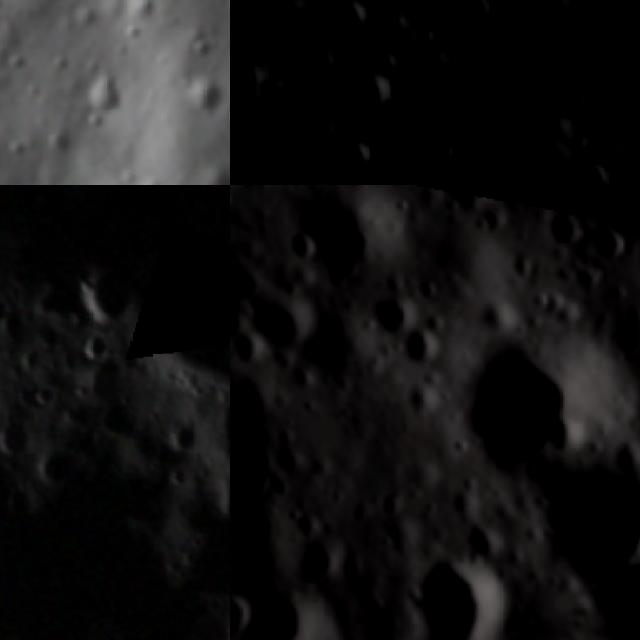crater: (449, 309, 621, 481), (519, 435, 640, 589), (380, 530, 532, 640), (230, 570, 344, 640), (230, 0, 321, 82), (322, 53, 406, 136), (230, 29, 287, 146), (288, 534, 351, 594), (436, 0, 513, 46), (577, 51, 636, 110), (75, 264, 131, 324), (387, 314, 443, 374), (536, 200, 596, 255), (358, 34, 413, 89), (556, 142, 625, 185), (330, 128, 383, 181), (412, 124, 464, 176), (248, 94, 299, 144), (441, 185, 517, 218), (360, 291, 410, 339), (451, 57, 499, 104), (283, 220, 327, 265), (584, 219, 629, 262), (230, 97, 256, 152), (0, 414, 30, 461), (230, 321, 262, 362), (33, 378, 65, 409), (167, 423, 196, 452), (78, 337, 114, 359), (322, 169, 371, 185), (0, 300, 20, 334), (348, 0, 395, 14), (381, 0, 423, 12), (162, 471, 185, 490), (222, 108, 230, 139)
